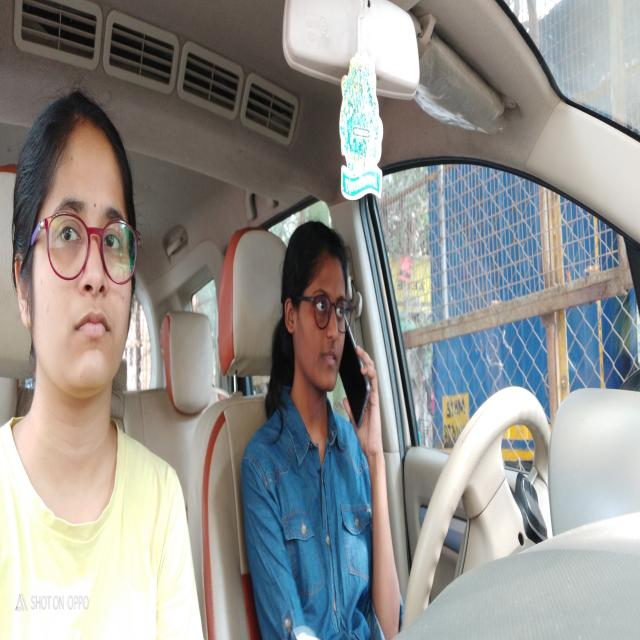mobile: (341, 318, 372, 432)
person: (9, 82, 146, 414), (278, 219, 349, 395)
